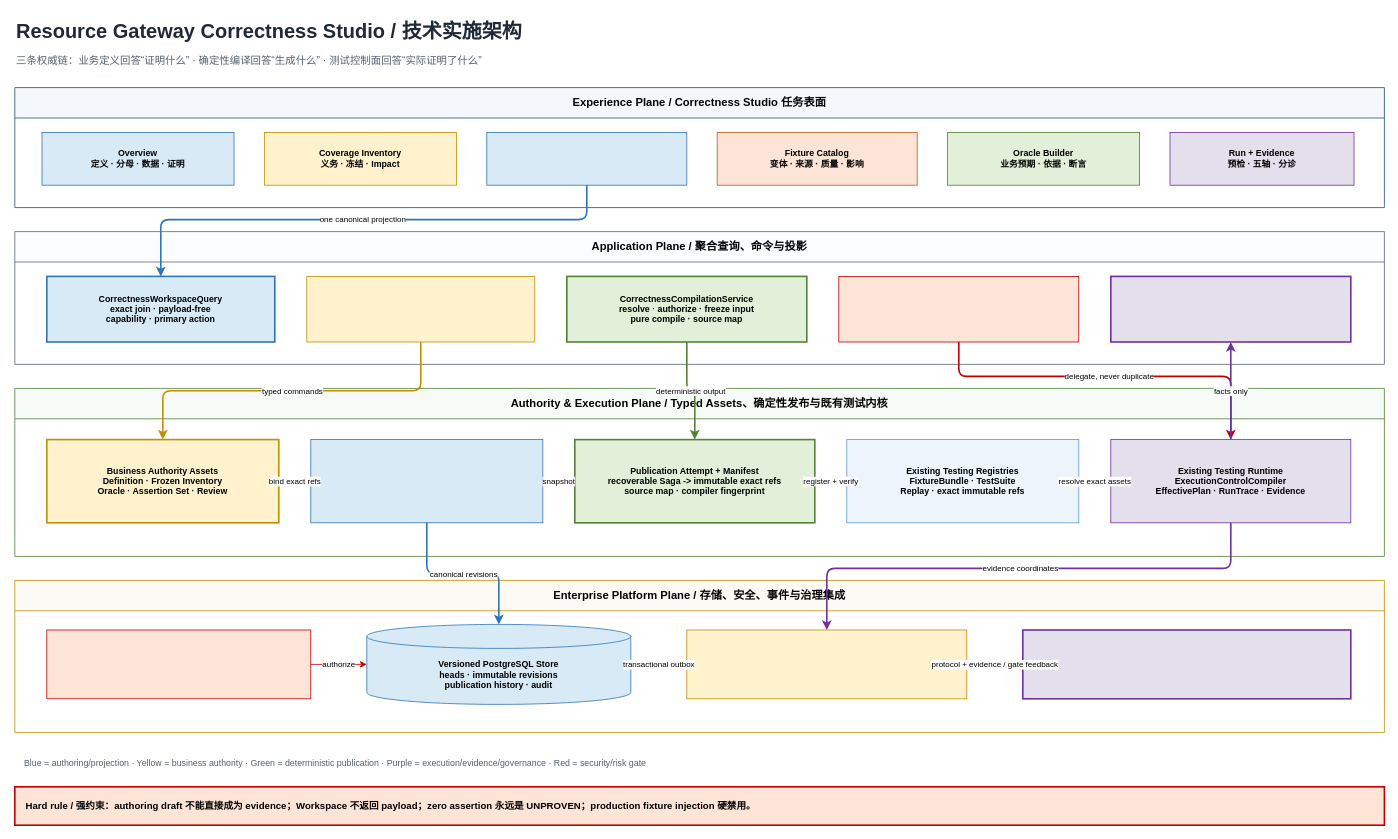
Image size: 1398x839. Some labels were removed from this diagram. The shapes that lost their labels are listed below. From the top down, each one's centre as x and y in pixels, then its label:
At point (586, 158): "Case Builder + Matrix Given · Controlled Data".
At point (420, 309): "Authoring Command Services CAS · idempotency · review freeze / approve / derive".
At point (958, 309): "CorrectnessPreflightFacade exact plan · isolation risk REAL / MOCKED / FAULT".
At point (1230, 308): "Verdict + Freshness Projector Execution · Assertion · Coverage Evidence · Gate".
At point (426, 481): "Authoring Assets ScenarioDraftSet v2 Fixture descriptor + exact material ref".
At point (178, 664): "Identity + Policy scope · purpose · clearance environment hard gate".
At point (826, 664): "Outbox + Projections payload-free events · rebuild anti-entropy · metrics/trace".
At point (1186, 664): "ANEKE Tool Studio registry · workbook · publish gate feedback + deep link".
